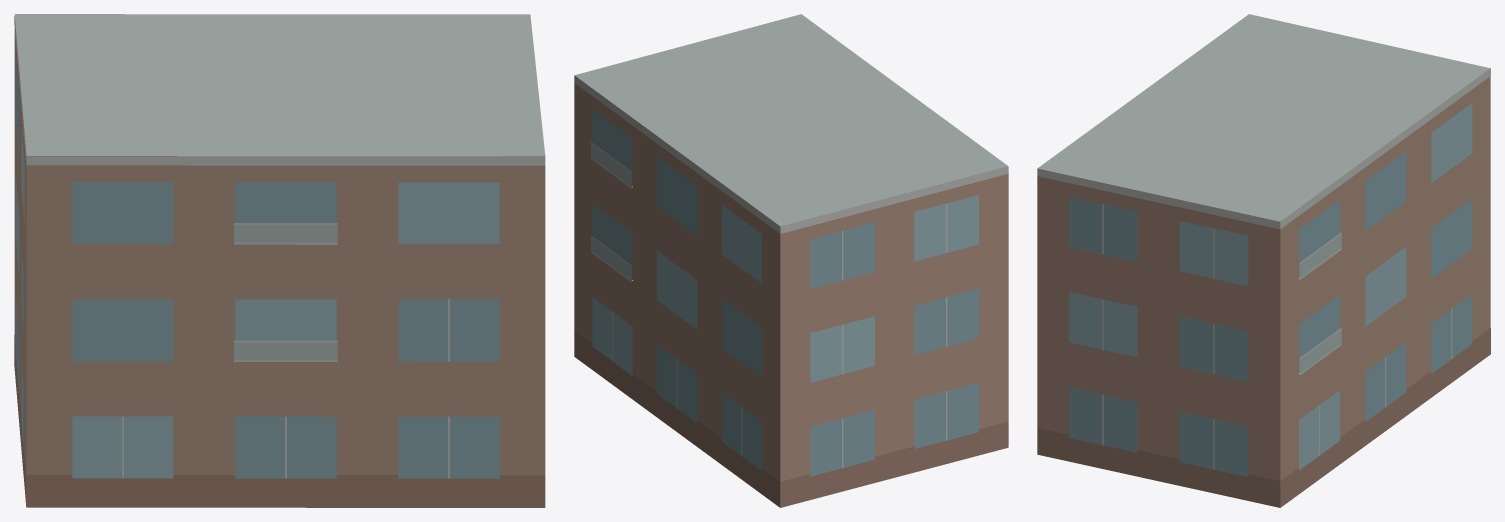
File: survey-upis-32939113.glb
The picture shows the model from 3 angles, left to right: view 1: azimuth 30°, elevation 25°; view 2: azimuth 150°, elevation 25°; view 3: azimuth 270°, elevation 25°; orthographic projection. The views are drawn at different scales.
Visible parts, largest first — view 1: survey-upis-32939113.tmp; view 2: survey-upis-32939113.tmp; view 3: survey-upis-32939113.tmp.
Part boxes in pixels (<box>): survey-upis-32939113.tmp: <box>14,14,545,507</box>; survey-upis-32939113.tmp: <box>574,14,1008,507</box>; survey-upis-32939113.tmp: <box>1037,14,1490,507</box>.
Bounding box in the file's own units: 14.26 × 9.15 × 13.15.
